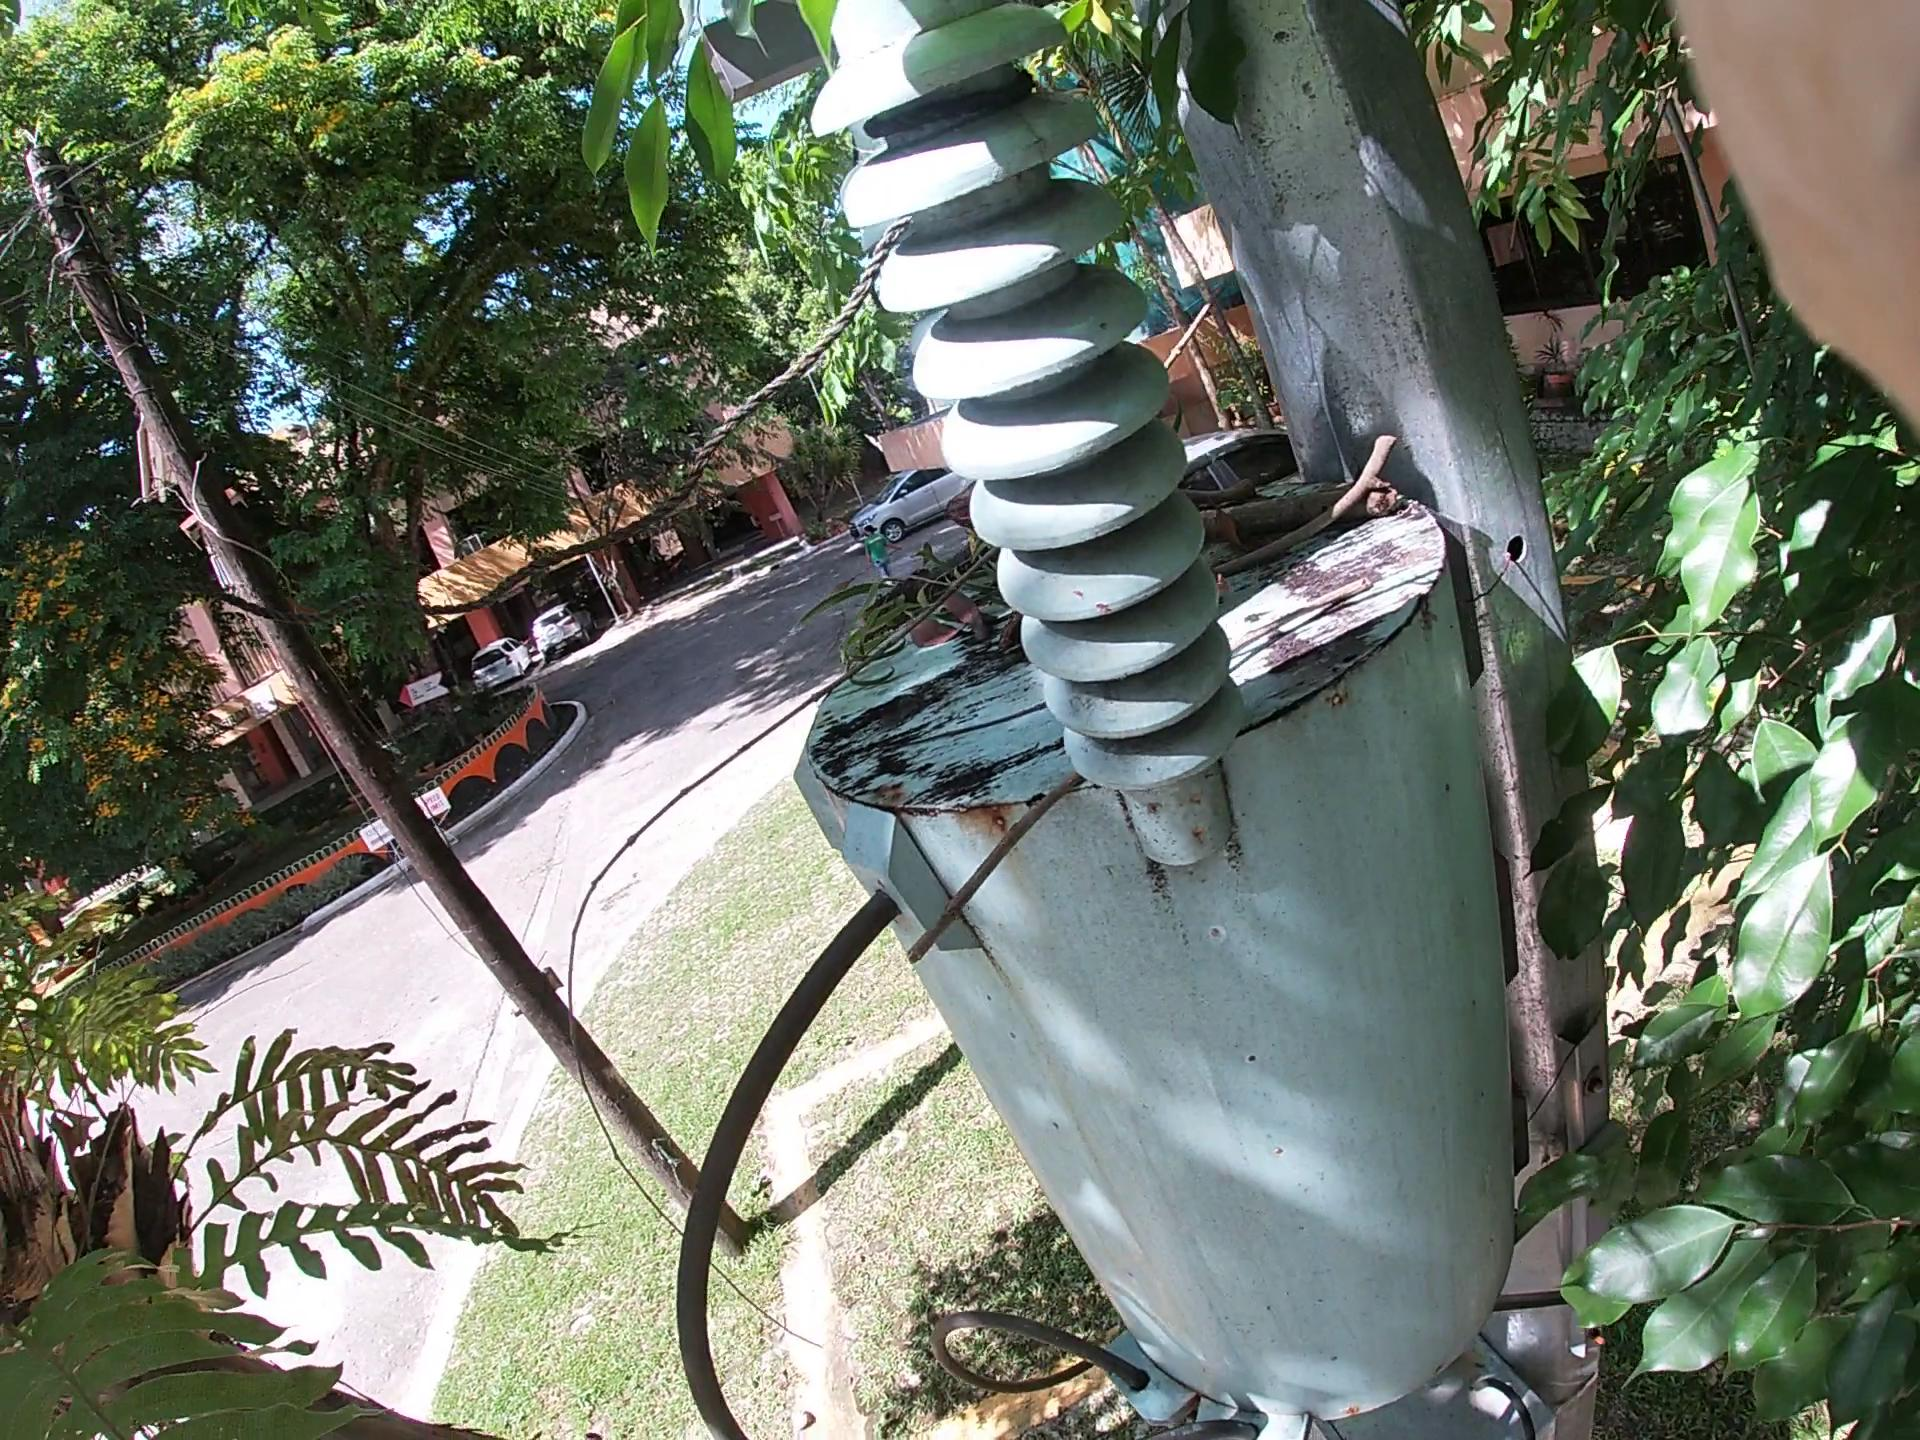branch with leaves: (831, 375, 1438, 637)
leaf: (884, 479, 996, 717)
mahogany fruit: (901, 457, 983, 542)
tree branch: (581, 271, 1312, 945), (1203, 390, 1430, 637), (921, 749, 1154, 973)
